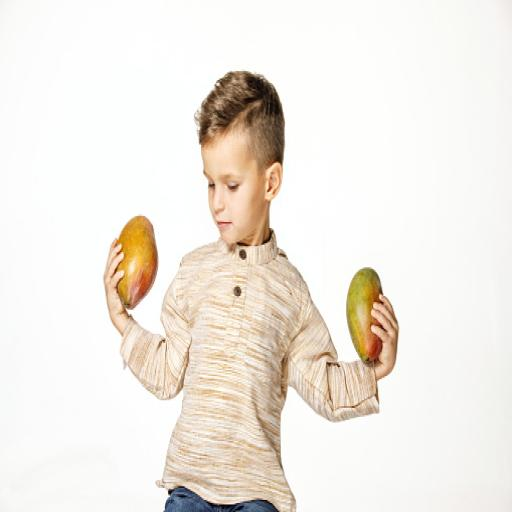mango: (117, 216, 157, 309), (347, 268, 382, 360)
